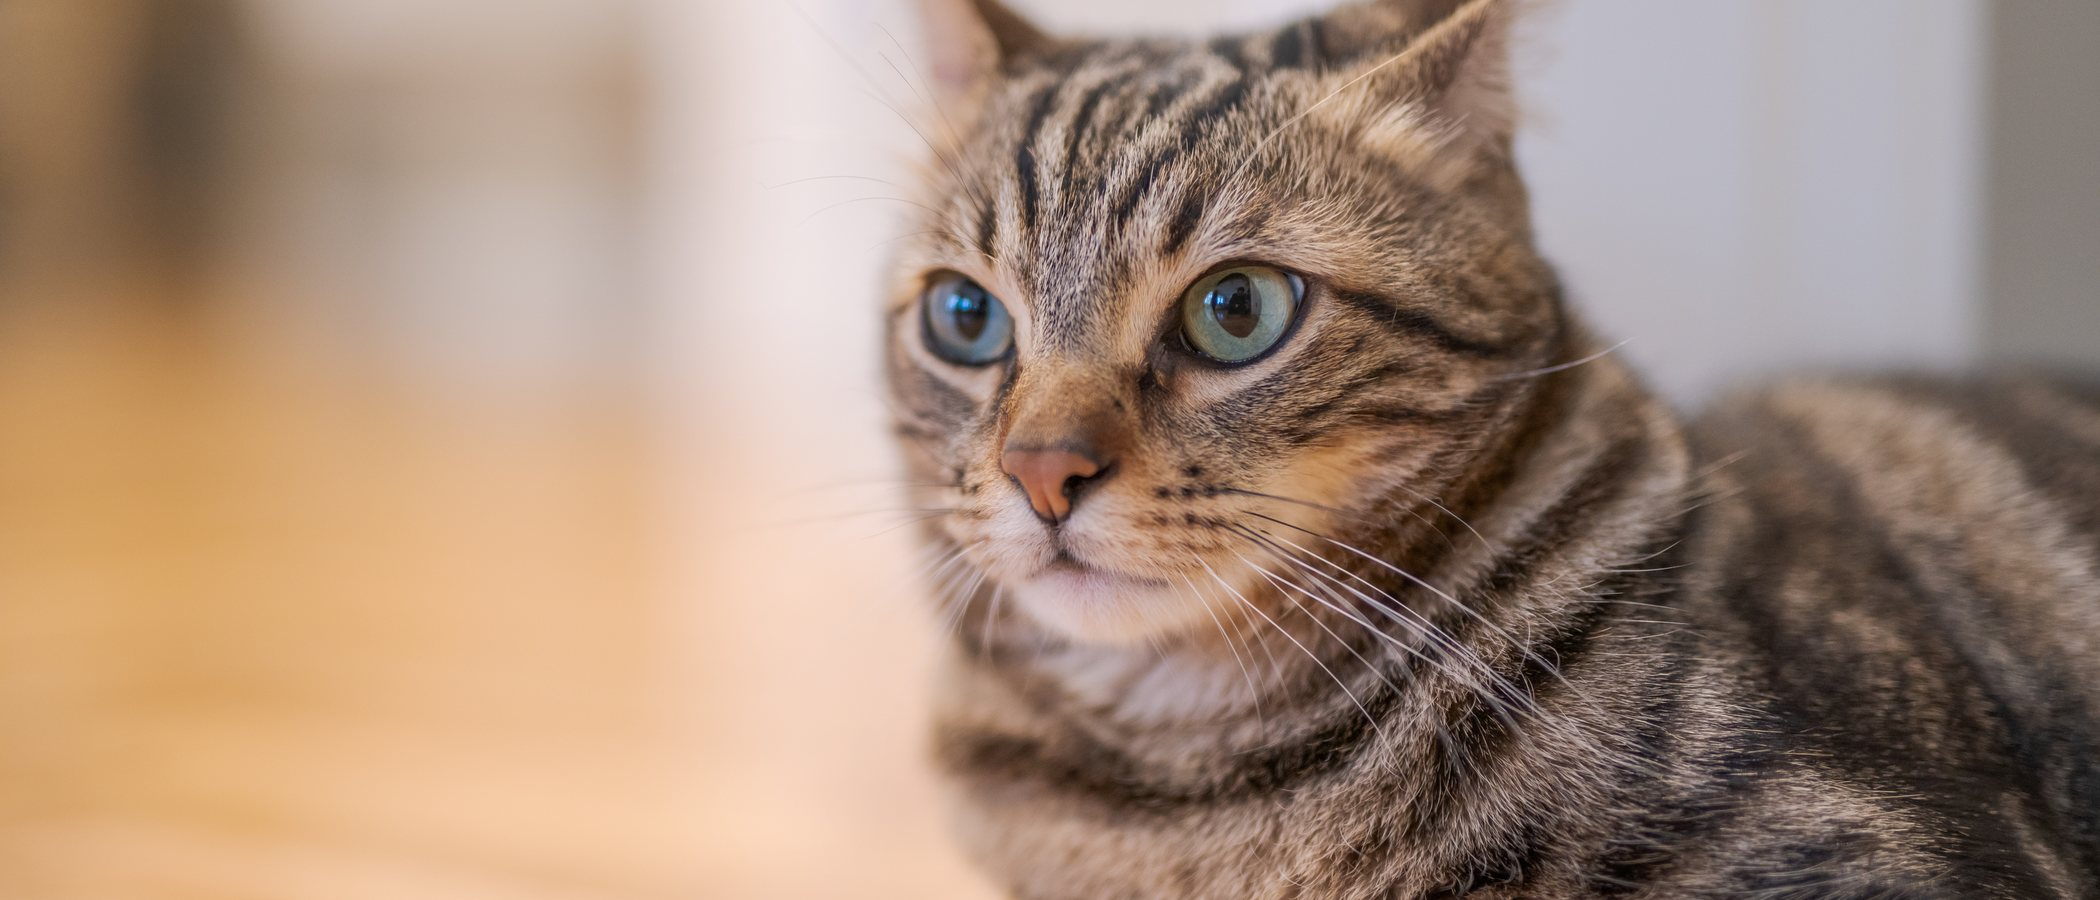cat: (826, 1, 2083, 885)
